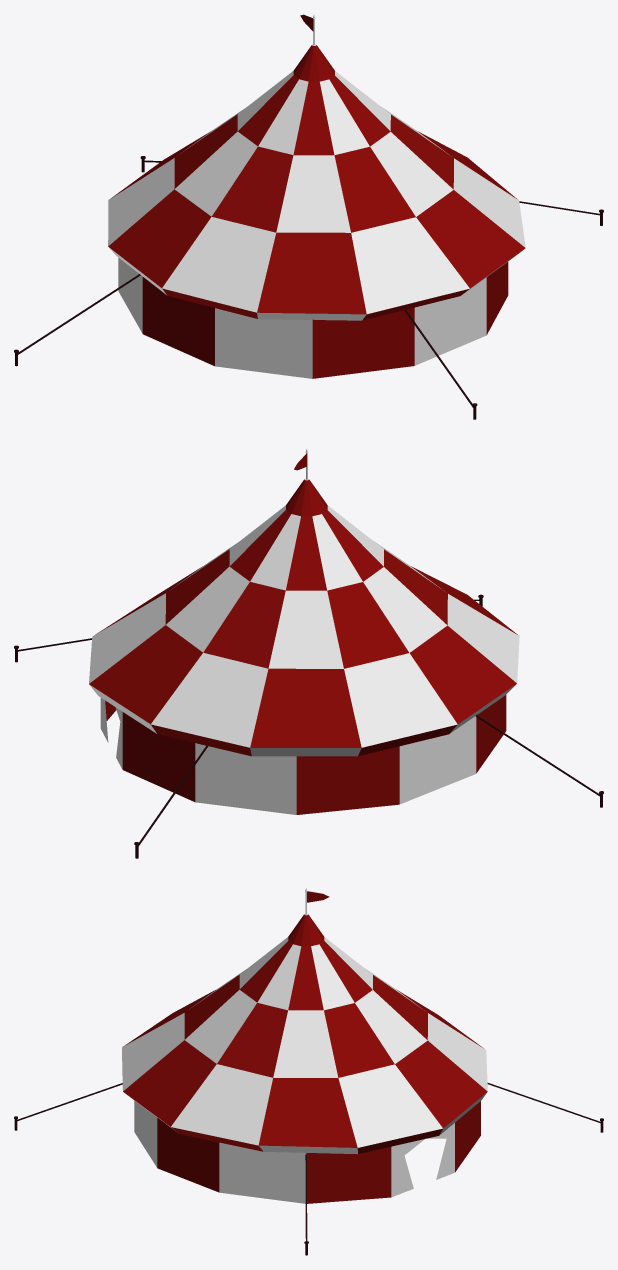
File: Circus Tent.fbx
The picture shows the model from 3 angles, top to bottom: view 1: azimuth 30°, elevation 25°; view 2: azimuth 150°, elevation 25°; view 3: azimuth 270°, elevation 25°; orthographic projection. The views are drawn at different scales.
Visible parts, largest first — view 1: Cylinder.001, Cylinder.003; view 2: Cylinder.001, Cylinder.003; view 3: Cylinder.001, Cylinder.003.
Part boxes in pixels (x1,y1,x2,y2): Cylinder.001: (108, 44, 525, 378); Cylinder.003: (14, 156, 603, 419); Cylinder.001: (89, 478, 519, 814); Cylinder.003: (14, 594, 603, 858); Cylinder.001: (122, 913, 487, 1203); Cylinder.003: (14, 1082, 603, 1255).
Size of the model in its own units: 758 by 348 by 758.
